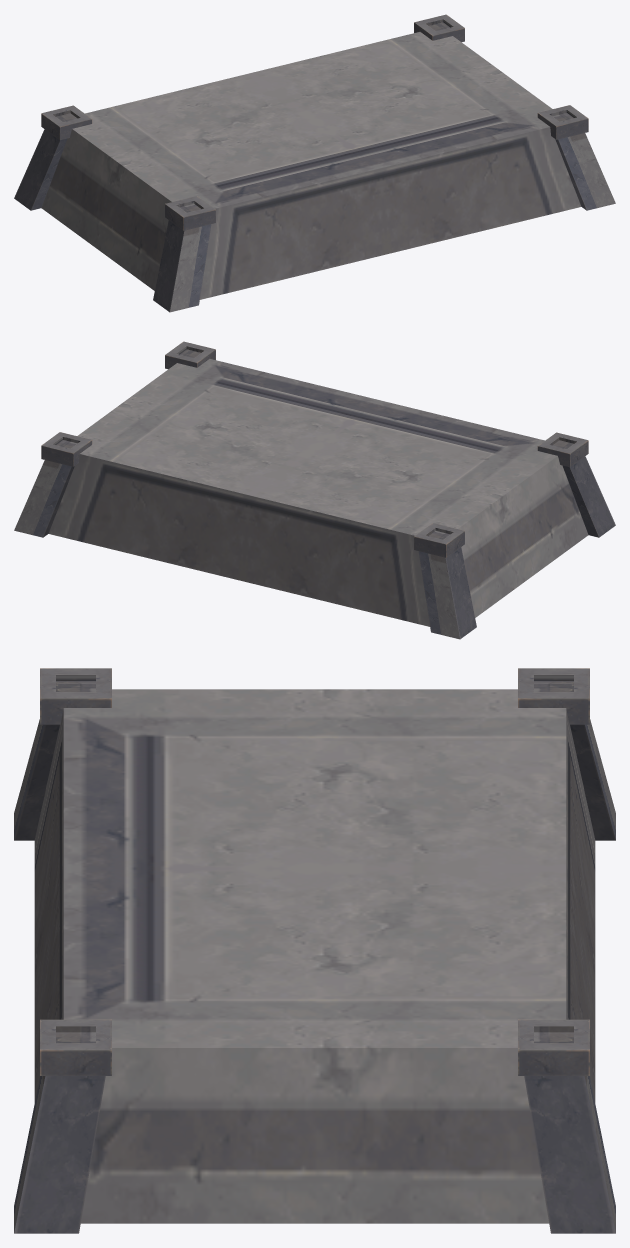
Rendered from Recruit_Box_01.FBX.
The picture shows the model from 3 angles, top to bottom: view 1: azimuth 30°, elevation 25°; view 2: azimuth 150°, elevation 25°; view 3: azimuth 270°, elevation 25°; orthographic projection. The views are drawn at different scales.
Visible parts, largest first — view 1: Recruit_Box_01; view 2: Recruit_Box_01; view 3: Recruit_Box_01.
Boxes of the visible parts, x1,y1,x2,y2 form: Recruit_Box_01: [14, 14, 615, 312]; Recruit_Box_01: [14, 341, 615, 639]; Recruit_Box_01: [14, 668, 615, 1233].
Bounding box in the file's own units: 3.93 × 0.7163 × 2.38.
